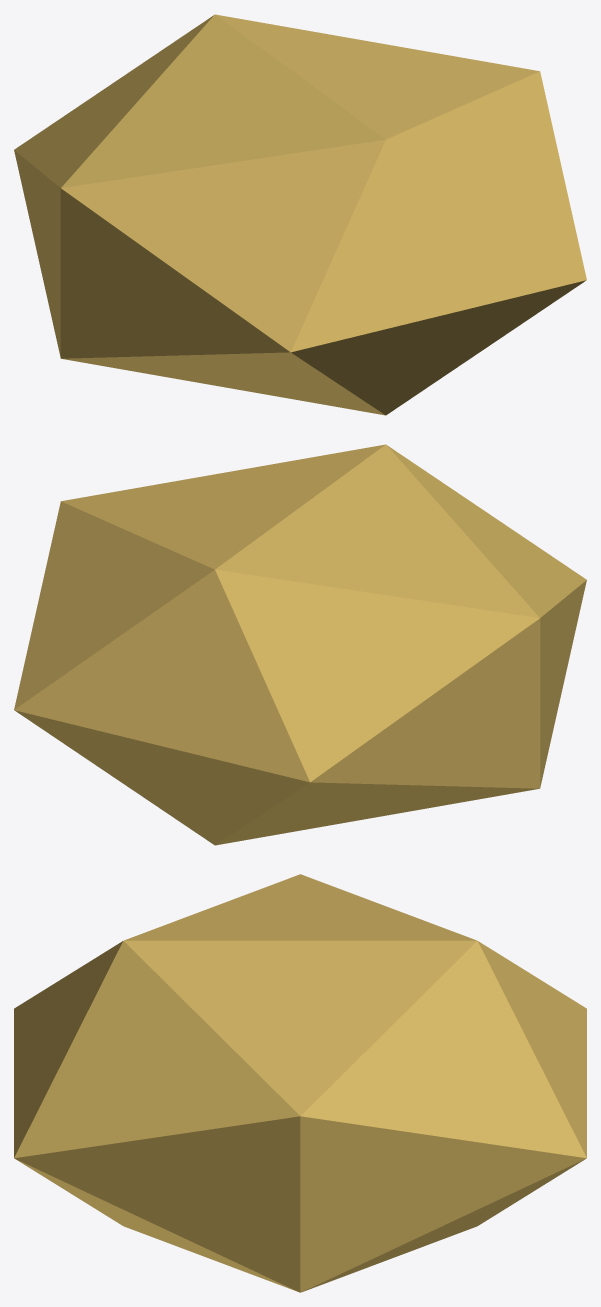
The model's file is starPin_accessory.glb.
3 renders of one model, top to bottom at view 1: azimuth 30°, elevation 25°; view 2: azimuth 150°, elevation 25°; view 3: azimuth 270°, elevation 25°, orthographic. The views are drawn at different scales.
Visible parts, largest first — view 1: appearance_accessory; view 2: appearance_accessory; view 3: appearance_accessory.
Boxes of the visible parts, <box> form: appearance_accessory: <box>14,14,586,415</box>; appearance_accessory: <box>14,444,586,845</box>; appearance_accessory: <box>14,874,586,1292</box>.
Bounding box in the file's own units: 0.1531 × 0.0842 × 0.1531.
